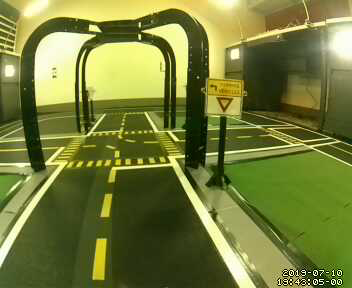Turn Yield: (202, 75, 244, 118)
